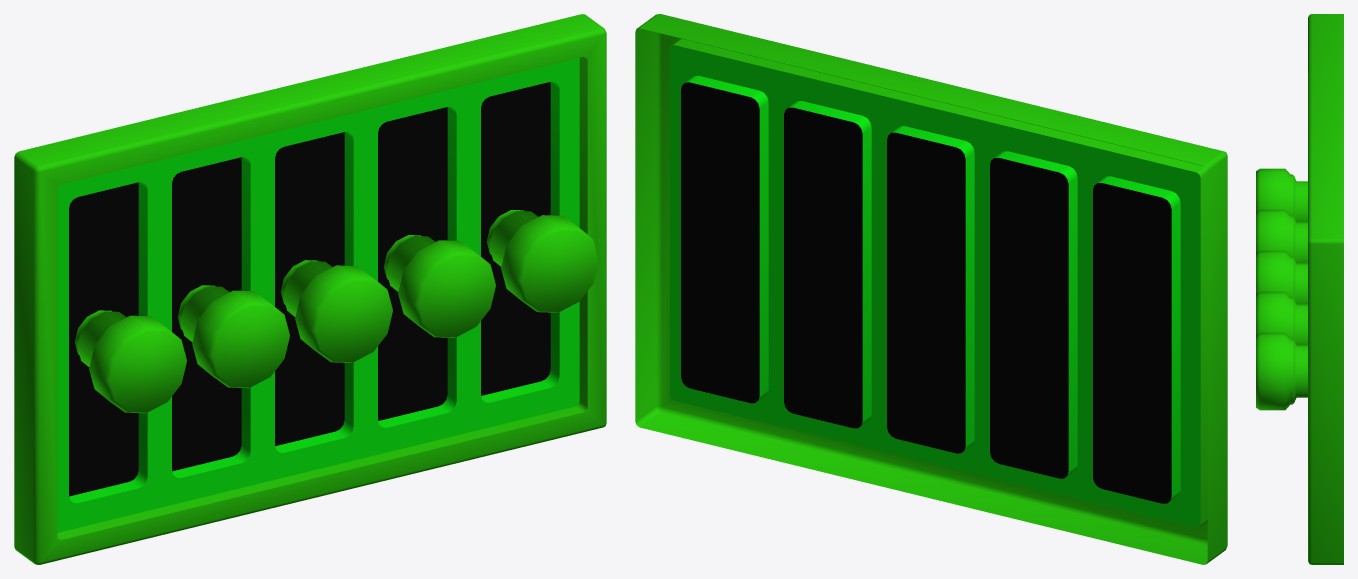
The model's file is Puzzle.fbx.
3 renders of one model, left to right at view 1: azimuth 30°, elevation 25°; view 2: azimuth 150°, elevation 25°; view 3: azimuth 270°, elevation 25°, orthographic. The views are drawn at different scales.
Parts seen in each view (by area): view 1: Panel, L3, L1, L4, L2, L5; view 2: Panel; view 3: Panel, L5, L4, L1, L3, L2.
Part boxes in pixels (<box>): Panel: <box>14,14,606,564</box>; L3: <box>280,260,392,362</box>; L1: <box>74,310,186,413</box>; L4: <box>383,235,495,337</box>; L2: <box>177,285,289,388</box>; L5: <box>486,210,598,312</box>; Panel: <box>635,14,1227,564</box>; Panel: <box>1308,14,1343,564</box>; L5: <box>1256,332,1307,410</box>; L4: <box>1256,291,1307,345</box>; L1: <box>1256,168,1307,222</box>; L3: <box>1256,250,1307,304</box>; L2: <box>1256,209,1307,263</box>.
Size of the model in its own units: 75 by 50 by 12.21.
